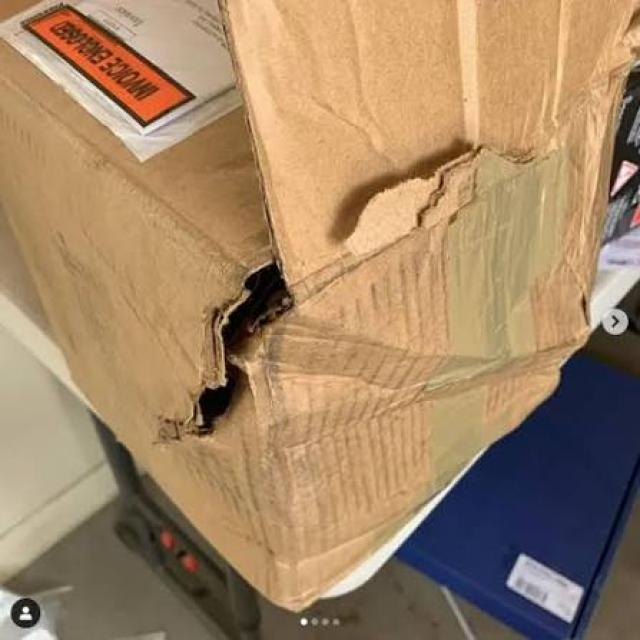carton_box: (0, 1, 640, 615)
package_damage: (132, 233, 348, 474)
